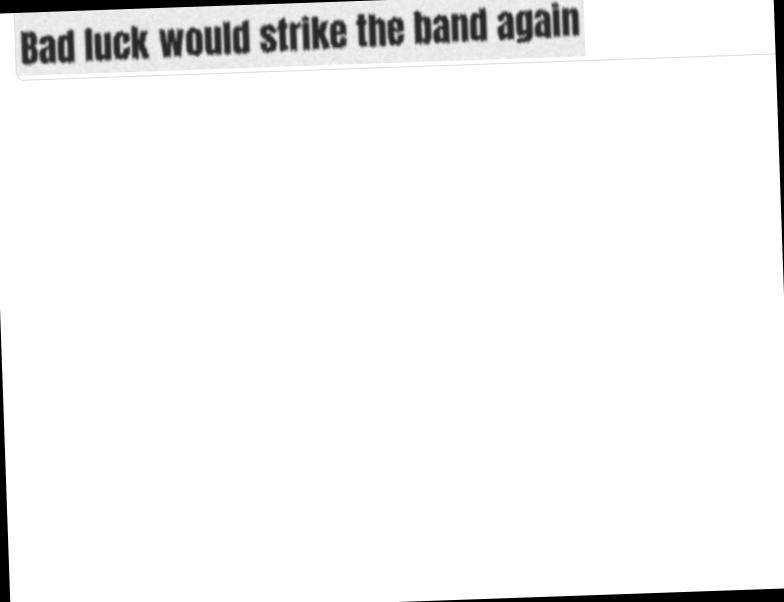text: (16, 0, 584, 68)
